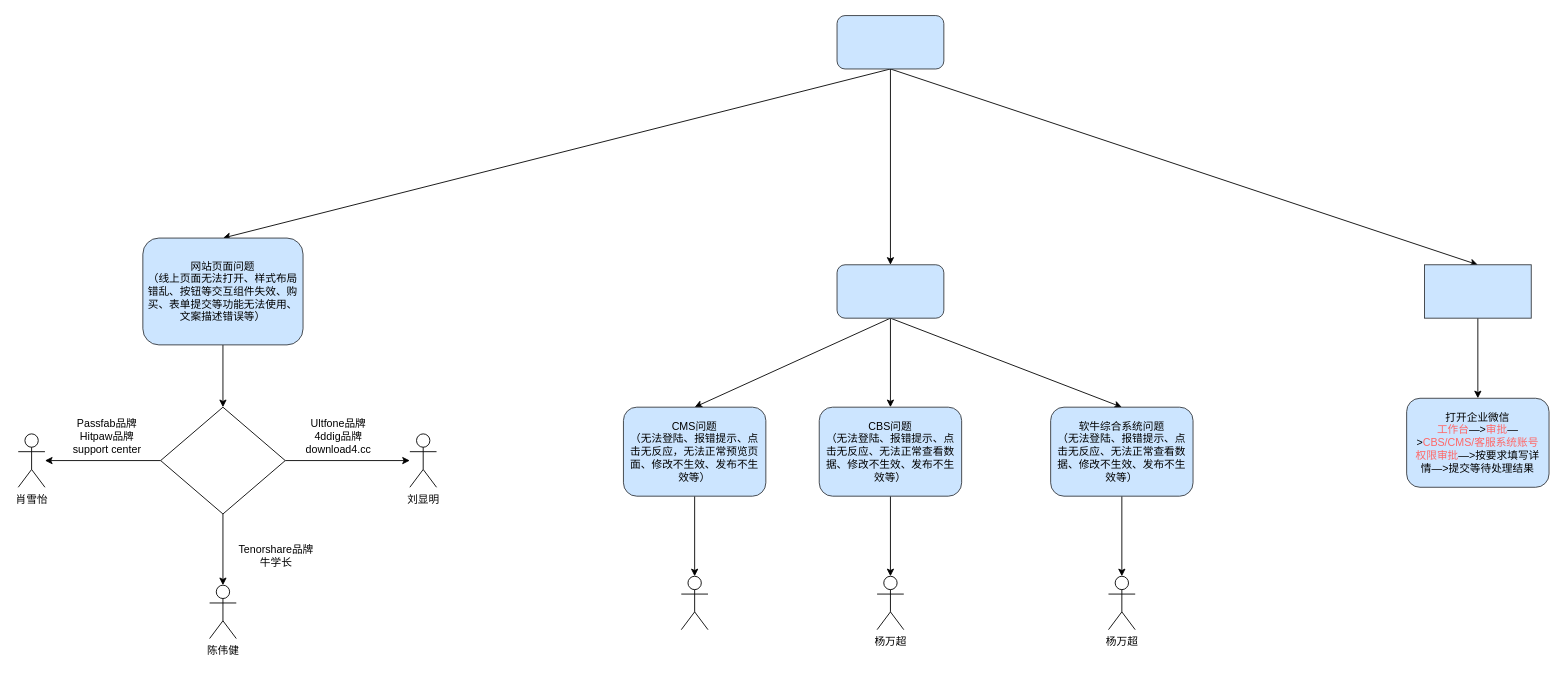
Some shapes in this 1565 by 673 pixel diagram are drawn without their labels. Here are the shapes that lost their labels. From the top down, the box of each, then its label:
(836, 15, 944, 69): 问题与反馈
(836, 264, 944, 318): 系统问题
(1424, 264, 1531, 318): 权限开通申请 （CMS、CBS、客服系统等登陆或使用权限）
(160, 406, 285, 514): 找对应品牌的前端维护人员协助处理
(680, 575, 708, 630): 王晓龙
